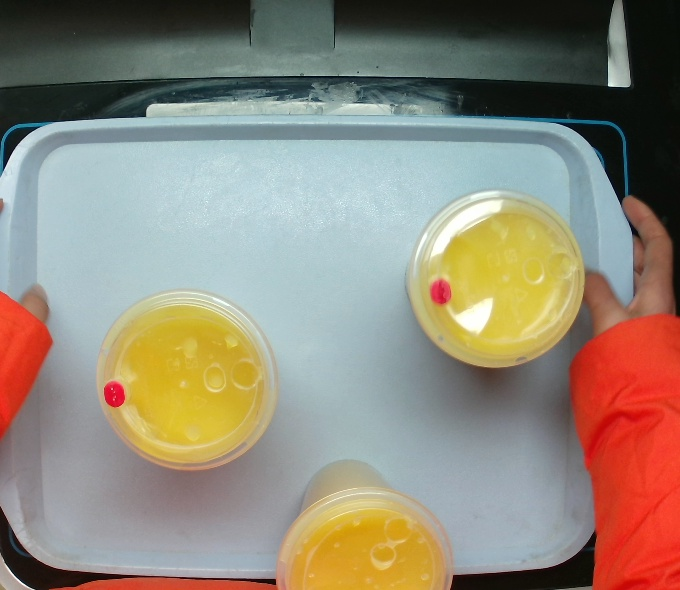wcq-ChengZhi: (92, 287, 281, 473), (402, 187, 588, 370), (271, 458, 456, 590)
